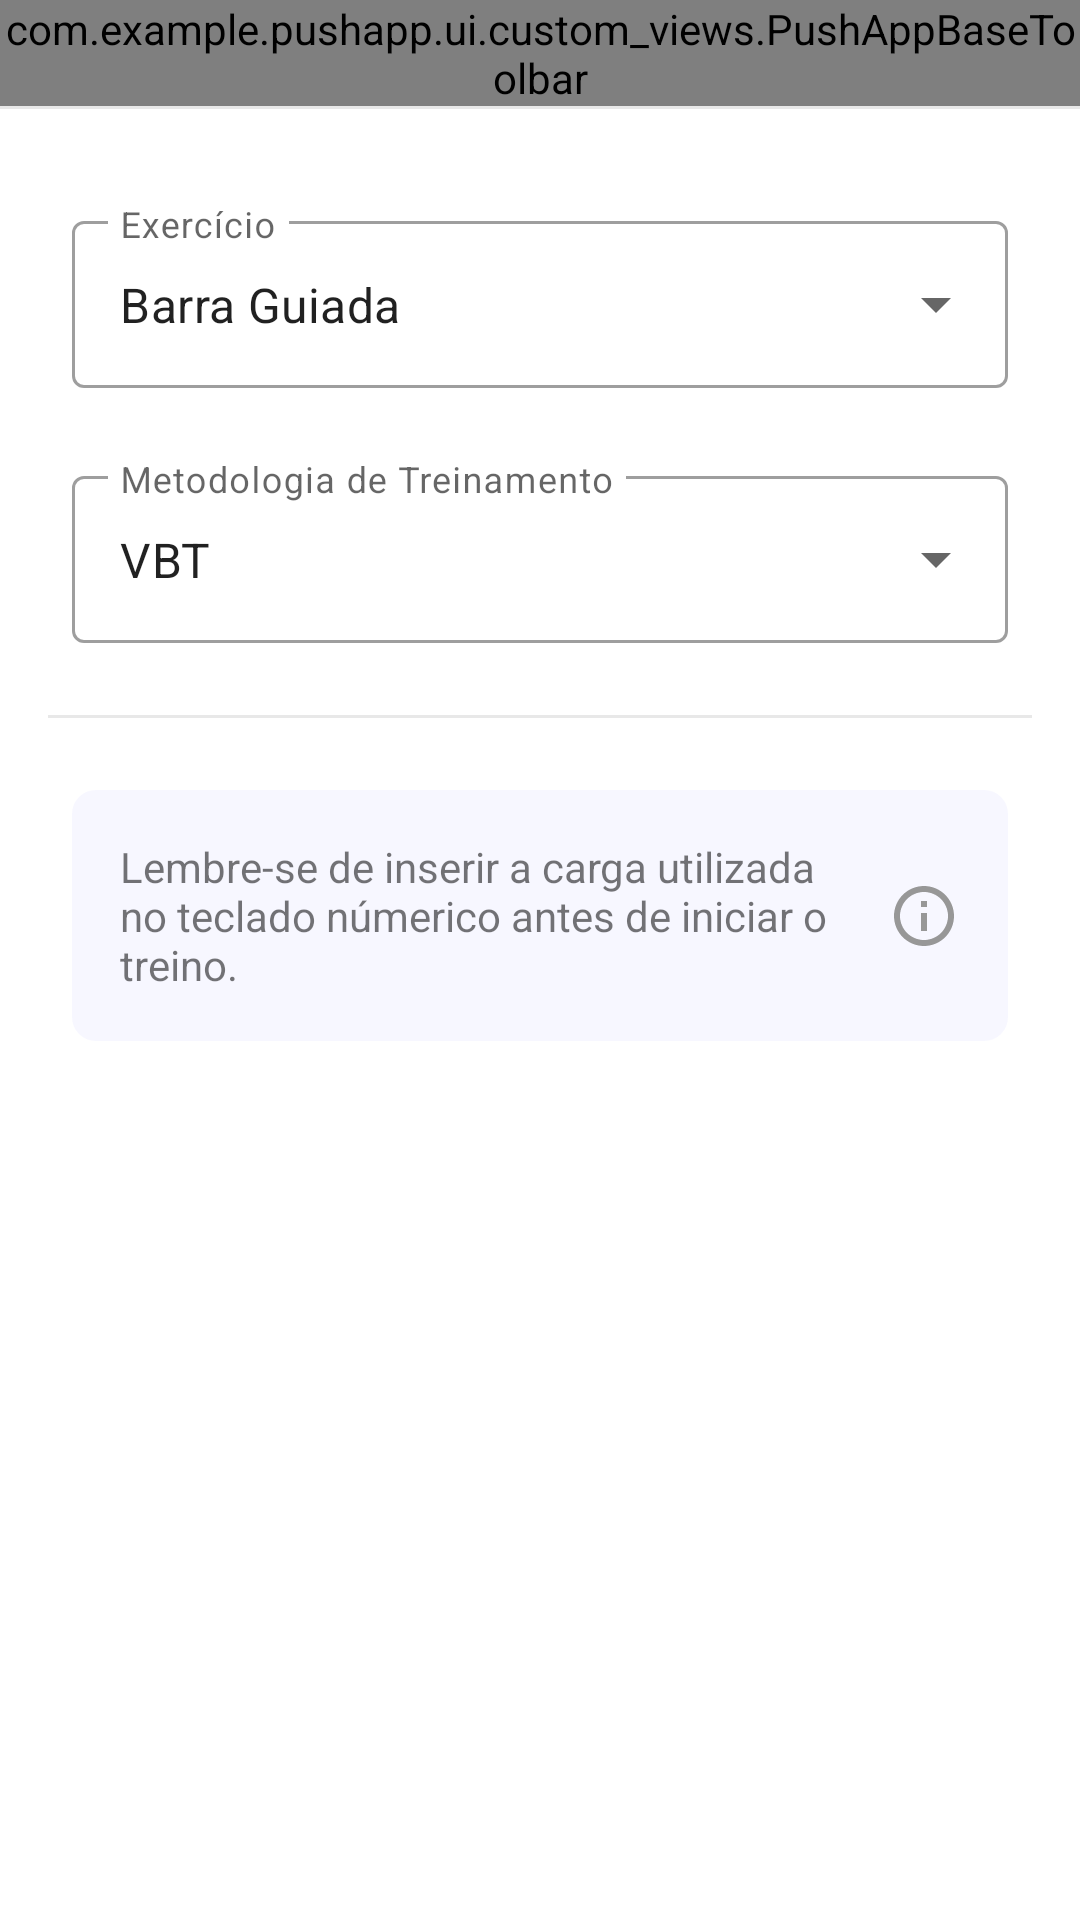

Where to tap for icons on this 1080*1920 app screen, as (x,y):
information: (924,916)
